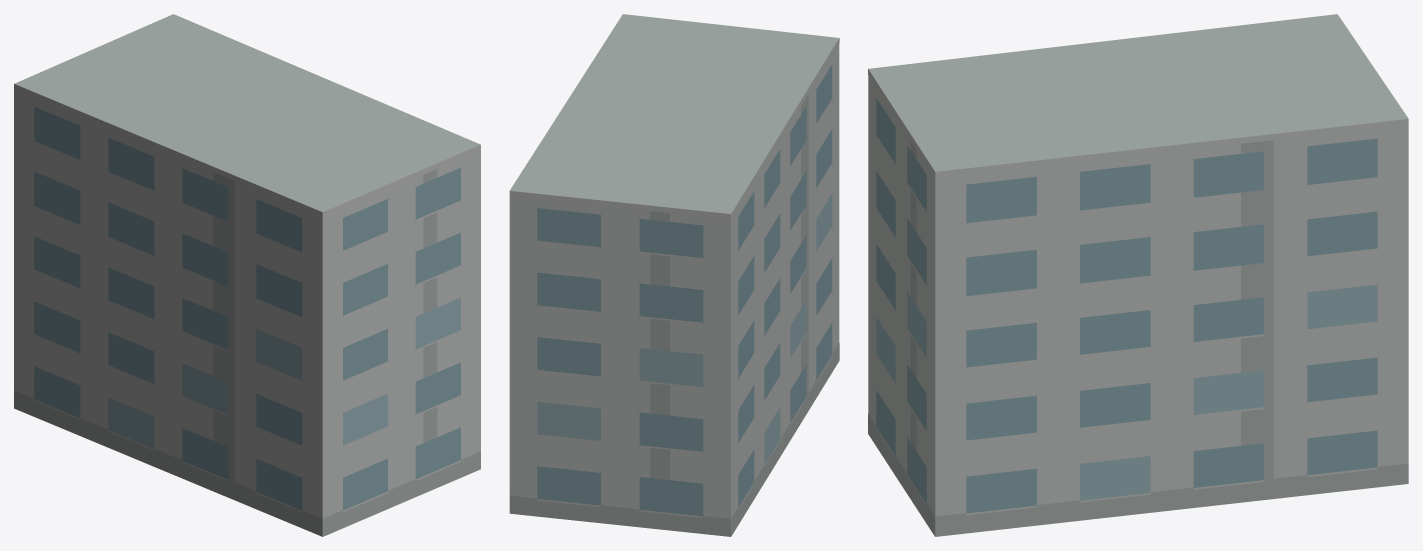
File: survey-upis-32919877.glb
3 views of the same model, side by side, from view 1: azimuth 30°, elevation 25°; view 2: azimuth 150°, elevation 25°; view 3: azimuth 270°, elevation 25° (orthographic). The views are drawn at different scales.
Parts seen in each view (by area): view 1: survey-upis-32919877.tmp; view 2: survey-upis-32919877.tmp; view 3: survey-upis-32919877.tmp.
Boxes of the visible parts, x1=… form: survey-upis-32919877.tmp: x1=14, y1=14, x2=480, y2=536; survey-upis-32919877.tmp: x1=509, y1=14, x2=839, y2=536; survey-upis-32919877.tmp: x1=868, y1=14, x2=1408, y2=536.
Size of the model in its own units: 13.36 by 14.39 by 19.33.
